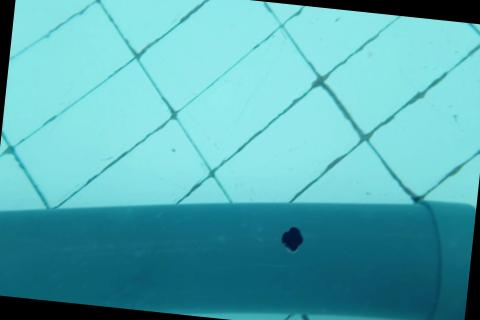kebocoran: (279, 223, 306, 255)
